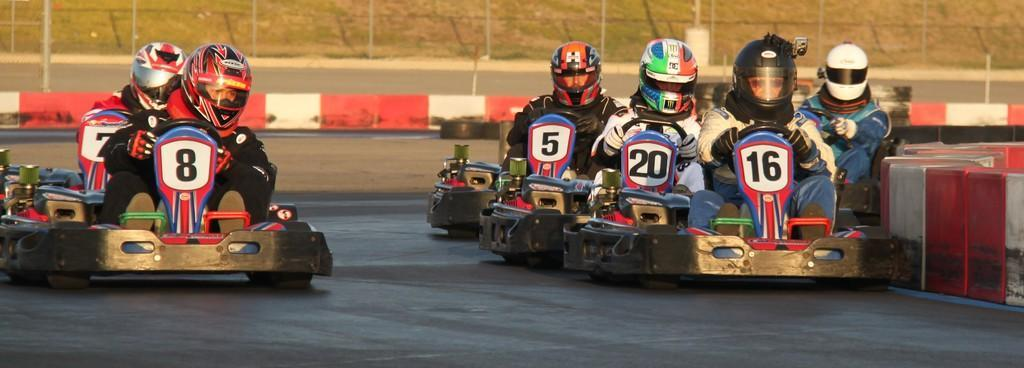helmet: (180, 41, 253, 131), (731, 38, 799, 121), (638, 37, 700, 116), (129, 40, 189, 112), (550, 39, 603, 110), (824, 42, 870, 102)
